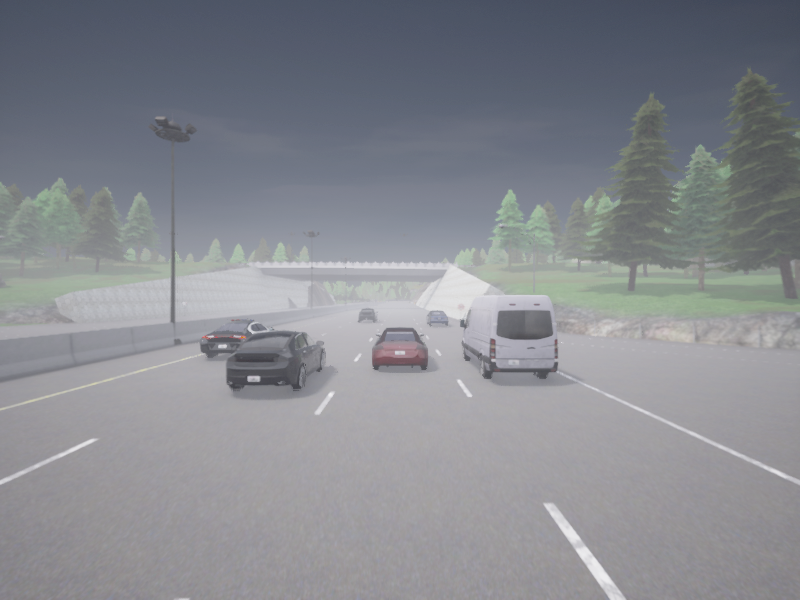vehicle: (460, 295, 557, 377), (226, 330, 324, 389), (200, 319, 273, 357), (372, 327, 427, 369), (426, 310, 448, 325), (358, 308, 378, 321)
